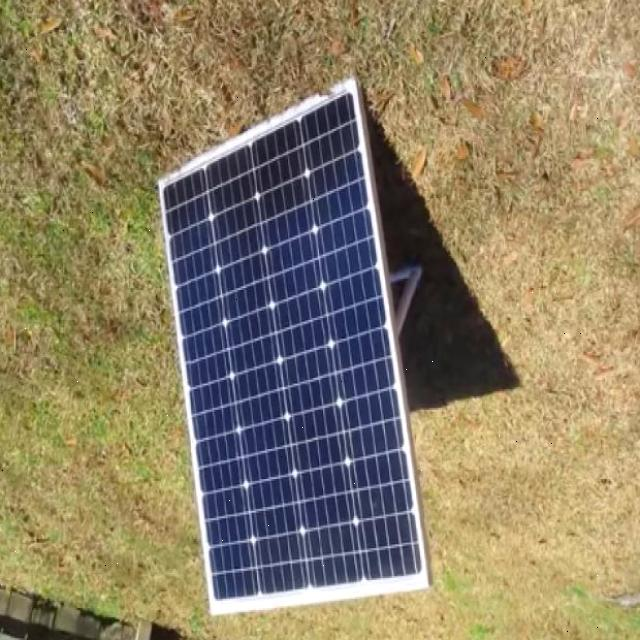Normal Solar Panel: (163, 94, 419, 599)
